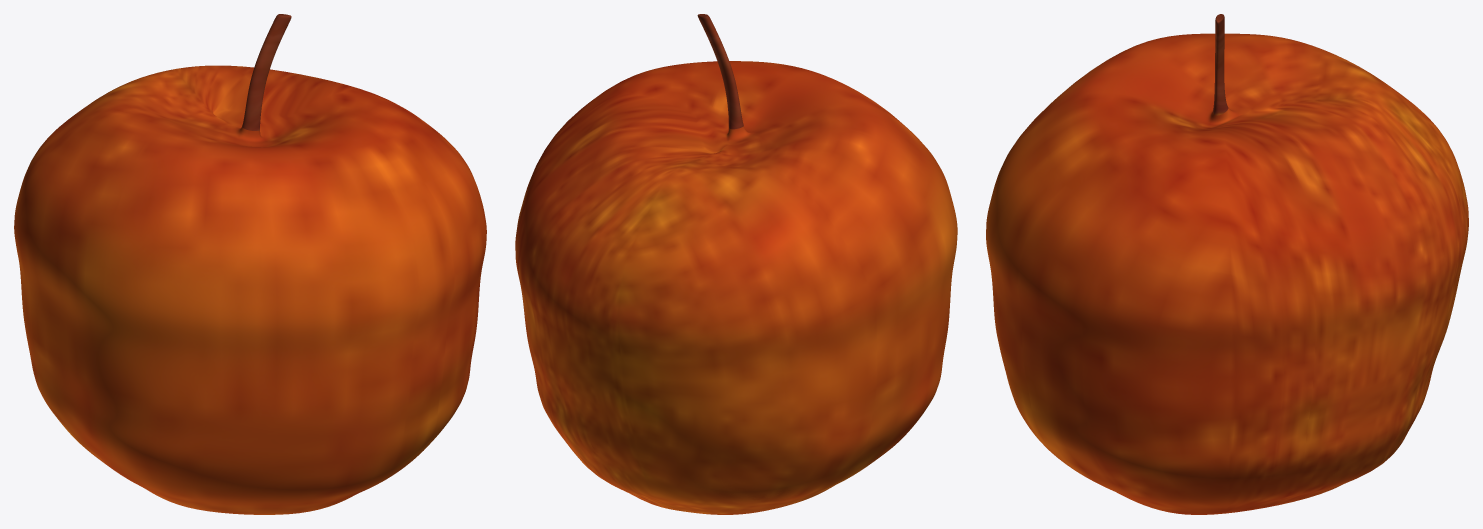
File: Apple.fbx
3 views of the same model, side by side, from view 1: azimuth 30°, elevation 25°; view 2: azimuth 150°, elevation 25°; view 3: azimuth 270°, elevation 25° (orthographic). The views are drawn at different scales.
Parts seen in each view (by area): view 1: Apple; view 2: Apple; view 3: Apple.
Part boxes in pixels (left/top/right/bottom): Apple: left=14, top=14, right=486, bottom=514; Apple: left=515, top=14, right=957, bottom=514; Apple: left=986, top=14, right=1468, bottom=514.
Size of the model in its own units: 0.1323 by 0.1495 by 0.1366.
